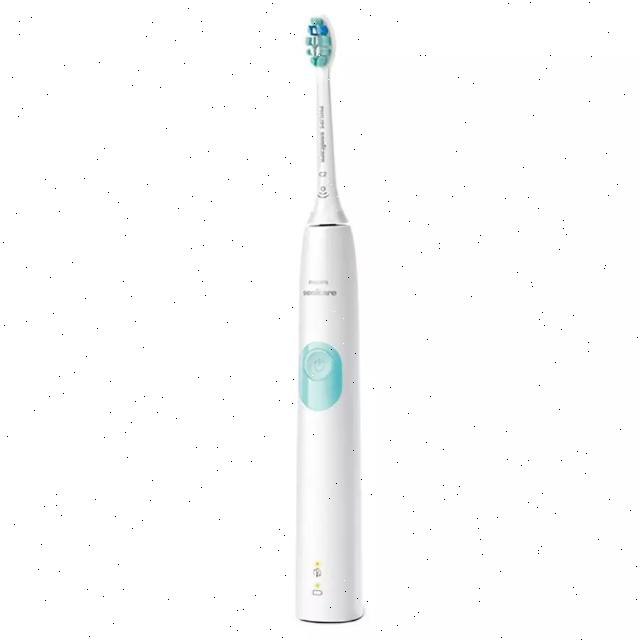toothbrush: (220, 0, 416, 640)
